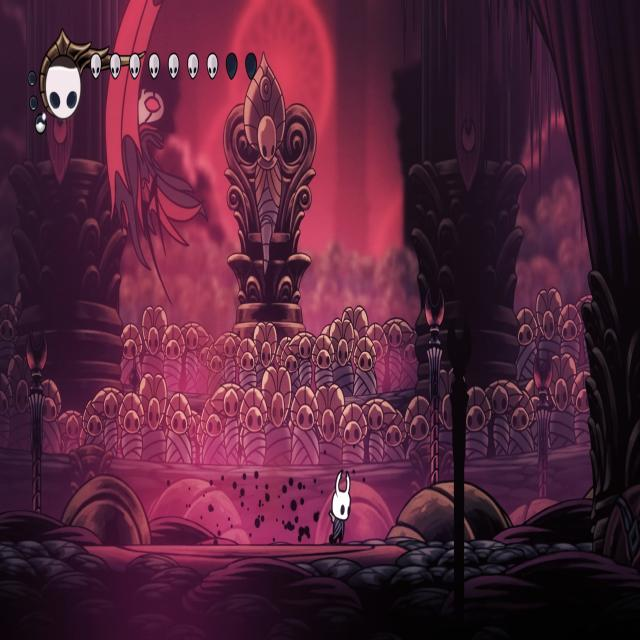Dash Uppercut: (101, 0, 213, 311)
Player: (325, 462, 354, 546)
